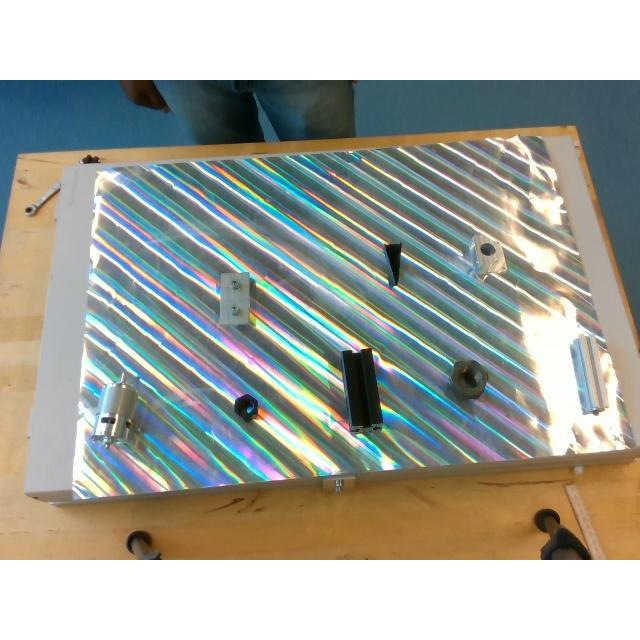F20_20_G: (573, 332, 611, 413)
M20: (234, 394, 258, 422)
M30: (447, 360, 487, 400)
Motor2: (92, 372, 136, 443)
S40_40_B: (342, 348, 382, 432)
